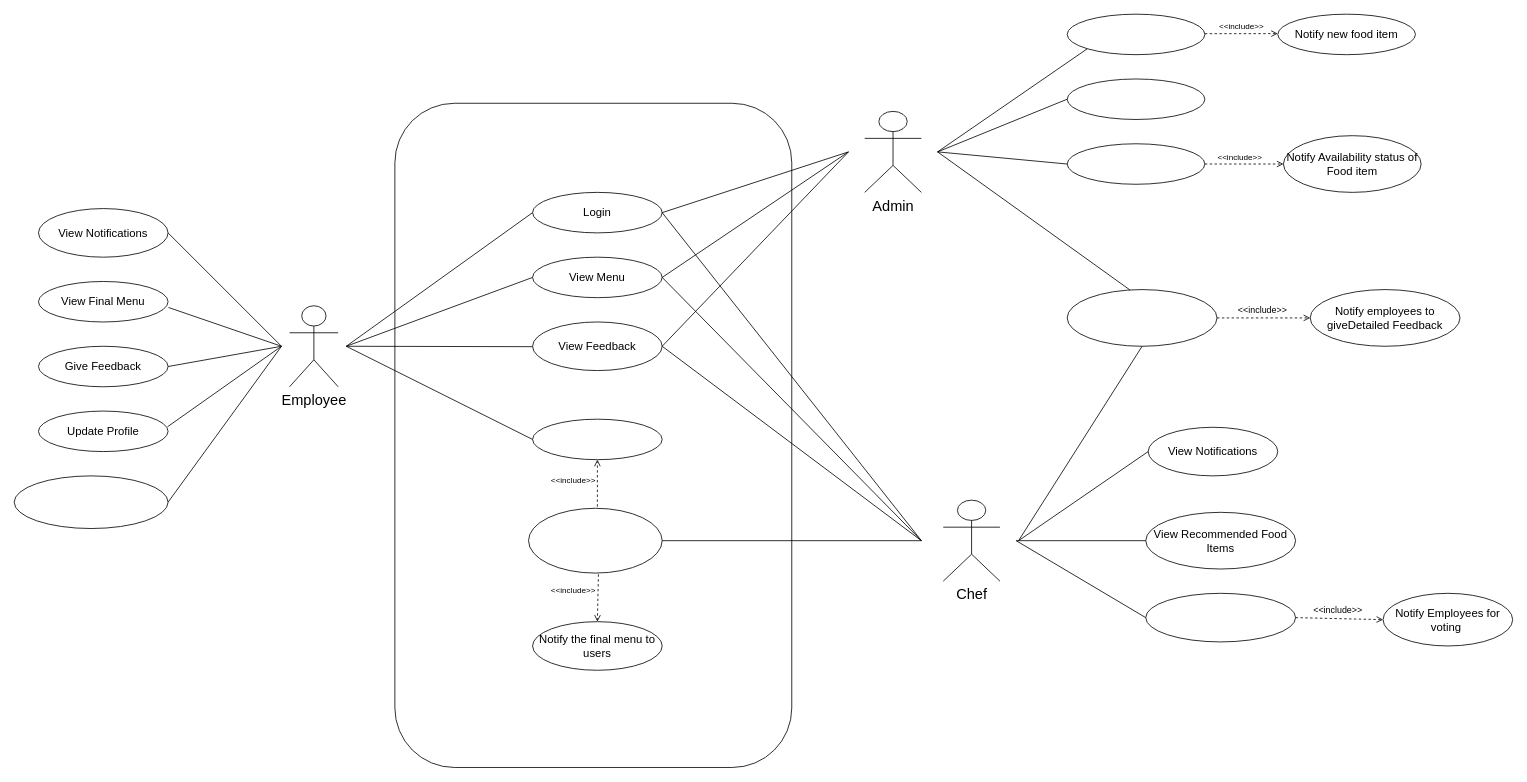
This 1527x782 diagram has some shape labels left out. The shapes that lost their labels are listed below. From the top down, each one's box as (x1, y1, x2, y2) in pixels, then its label:
(1066, 13, 1205, 55): Add Menu Item
(1066, 78, 1205, 119): Update Menu Item
(1066, 143, 1205, 184): Delete Menu Item
(1066, 289, 1217, 346): View Discard Food Items
(532, 418, 662, 460): Choose Menu items
(13, 475, 168, 529): Give Detailed Feedback On Discard Menu Items
(528, 507, 662, 573): Finalize menu based on votes
(1145, 593, 1296, 642): Roll out Menu for next day
